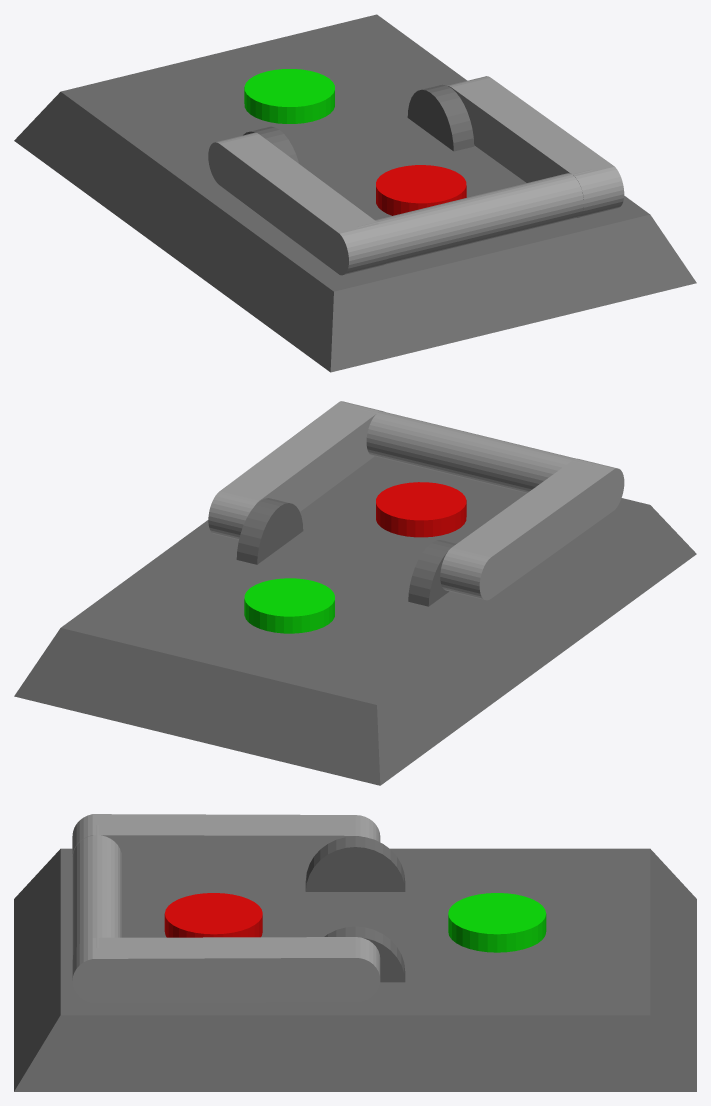
File: props.fbx_lever3.fbx
The picture shows the model from 3 angles, top to bottom: view 1: azimuth 30°, elevation 25°; view 2: azimuth 150°, elevation 25°; view 3: azimuth 270°, elevation 25°; orthographic projection. The views are drawn at different scales.
Visible parts, largest first — view 1: Plane.022, Cylinder.003; view 2: Plane.022, Cylinder.003; view 3: Plane.022, Cylinder.003.
Boxes of the visible parts, left/top/right/bottom form: Plane.022: left=14, top=14, right=696, bottom=372; Cylinder.003: left=208, top=76, right=624, bottom=275; Plane.022: left=14, top=456, right=696, bottom=785; Cylinder.003: left=208, top=401, right=624, bottom=600; Plane.022: left=14, top=836, right=696, bottom=1091; Cylinder.003: left=72, top=814, right=380, bottom=1003.
Size of the model in its own units: 0.3606 by 0.0951 by 0.5397.
